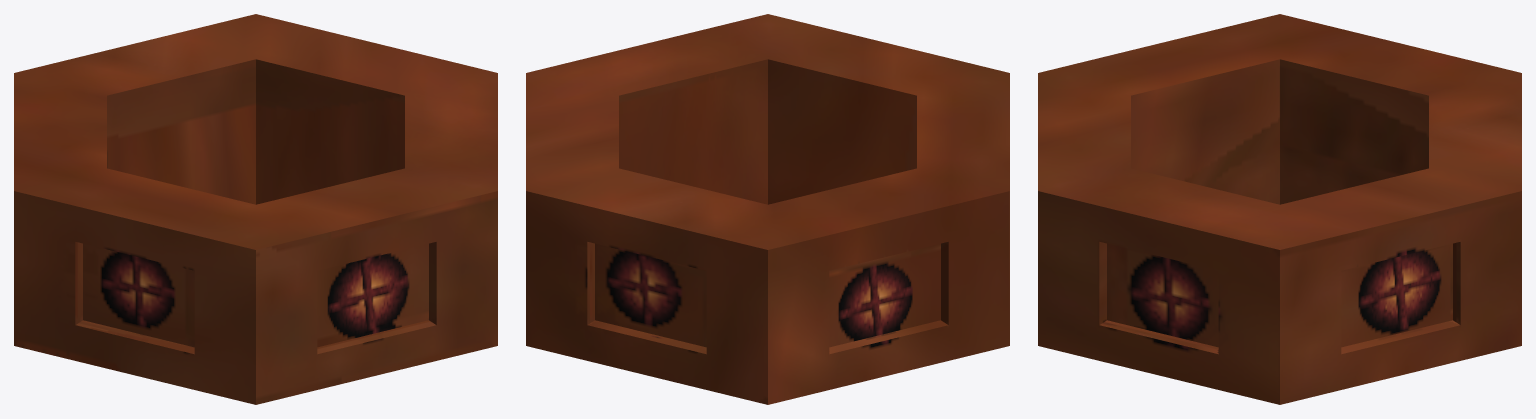
File: unión same size .fbx
3 renders of one model, left to right at view 1: azimuth 30°, elevation 25°; view 2: azimuth 150°, elevation 25°; view 3: azimuth 270°, elevation 25°, orthographic.
Visible parts, largest first — view 1: unión sameSize; view 2: unión sameSize; view 3: unión sameSize.
Part boxes in pixels (x1,y1,x2,y2): unión sameSize: (14, 14, 497, 404); unión sameSize: (526, 14, 1009, 404); unión sameSize: (1038, 14, 1521, 404).
Bounding box in the file's own units: 3.23 × 0.9897 × 2.8.
Materials: 1 (1 with a texture image).
